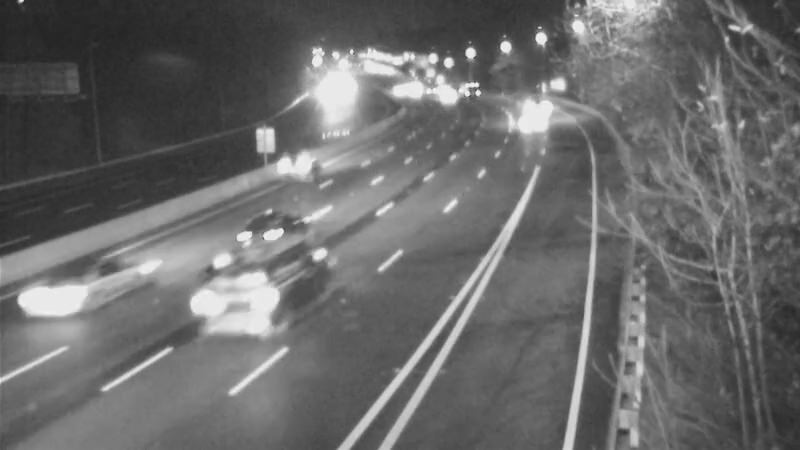vehicle: (180, 250, 290, 360), (2, 245, 112, 355), (255, 127, 335, 207), (223, 186, 303, 266), (447, 66, 497, 116), (503, 83, 553, 133), (507, 97, 557, 147)
